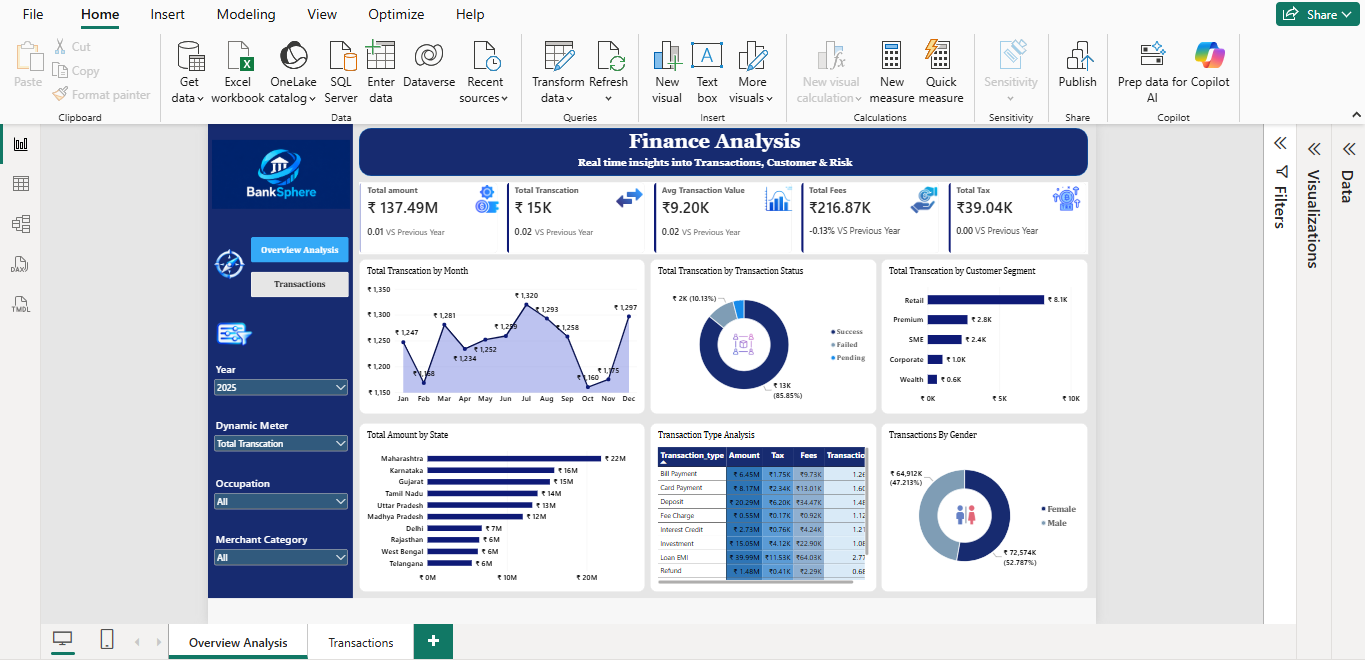

The page's visual inventory and layout, read from the dashboard file:
{"tool":"powerbi","page":{"name":"Overview Analysis","canvas":[1920,1080],"ordinal":0},"visuals":[{"type":"textbox","box":[0,0,313.2,1023.8],"z":0},{"type":"textbox","box":[313.2,0,1607,1023.8],"z":1000},{"type":"areaChart","fields":{"Category":["Calender Table.Month"],"Y":["Finance_Transactions.Total Transcation"]},"box":[326.2,291.6,617.8,334.8],"z":1000,"group":"g2"},{"type":"donutChart","title":"Total Transcation by Transaction Status","fields":{"Category":["Finance_Transactions.transaction_status"],"Y":["Finance_Transactions.Total Transcation"]},"box":[954,291.6,490.3,334.8],"z":1000,"group":"g1"},{"type":"cardVisual","fields":{"Data":["Finance_Transactions.Total amount","Finance_Transactions.Total Transcation","Finance_Transactions.Avg Transaction Value","Finance_Transactions.Total Fees","Finance_Transactions.Total Tax"]},"box":[326.2,125.3,1574.6,155.5],"z":2000},{"type":"group","id":"g1","title":"Group 1","box":[954,291.6,490.3,334.8],"z":4000},{"type":"group","id":"g2","title":"Group 3","box":[326.2,291.6,617.8,334.8],"z":5000},{"type":"slicer","fields":{"Values":["Calender Table.Year"]},"box":[8.6,514,298.1,88.6],"z":6000,"group":"g6"},{"type":"pivotTable","title":"Transaction Type Analysis","fields":{"Rows":["Finance_Transactions.transaction_type"],"Values":["Finance_Transactions.Total amount","Finance_Transactions.Total Tax","Finance_Transactions.Total Fees","CountNonNull(Finance_Transactions.transaction_id)"]},"box":[954.7,645.8,490.3,365],"z":6000},{"type":"image","box":[550.8,131.8,103.7,60.5],"z":7000},{"type":"slicer","fields":{"Values":["Dynamic Meter.Dynamic Meter"]},"box":[8.6,635,298.1,84.2],"z":7000,"group":"g6"},{"type":"image","box":[861.8,129.6,97.2,60.5],"z":8000},{"type":"image","box":[1188,131.8,88.6,60.5],"z":9000},{"type":"image","box":[1496.9,133.9,99.4,60.5],"z":10000},{"type":"donutChart","title":"Transactions By Gender","fields":{"Category":["Customers.gender"],"Y":["Finance_Transactions.Total amount"]},"box":[1453.7,645.8,447.1,365],"z":10000,"group":"g8"},{"type":"image","box":[1807.9,125.3,92.9,71.3],"z":11000},{"type":"image","box":[1093,451.4,127.4,47.5],"z":12000},{"type":"group","id":"g3","title":"Group 5","box":[1453.7,645.8,447.1,365],"z":13000},{"type":"group","id":"g4","title":"Group 2","box":[326.2,645.8,617.8,365],"z":14000},{"type":"group","id":"g5","title":"Group 6","box":[1453.7,291.6,447.1,334.8],"z":16000},{"type":"group","id":"g6","title":"Group 7","box":[4.3,30.2,302.4,928.8],"z":17000},{"type":"shape","box":[326.2,8.6,1574.6,103.7],"z":17500},{"type":"cardVisual","fields":{"Data":["Finance_Transactions.Title"]},"box":[719.6,4.7,751,64.8],"z":18000,"group":"g7"},{"type":"slicer","fields":{"Values":["Customers.occupation"]},"box":[8.6,760.3,298.1,75.6],"z":18000,"group":"g6"},{"type":"image","box":[1587.4,807.8,98.2,75.9],"z":18000,"group":"g8"},{"type":"textbox","box":[382.3,71.7,1425.6,43.2],"z":18500,"group":"g7"},{"type":"group","id":"g7","title":"Group 8","box":[382.3,4.7,1425.6,110.2],"z":18501},{"type":"slicer","fields":{"Values":["Finance_Transactions.merchant_category"]},"box":[8.6,881.2,298.1,77.8],"z":19000,"group":"g6"},{"type":"pageNavigator","box":[92.9,244,211.7,131.8],"z":21000,"group":"g6"},{"type":"image","box":[8.6,30.2,298.1,157.7],"z":22000,"group":"g6"},{"type":"group","id":"g8","title":"Group 4","box":[1453.7,645.8,447.1,365],"z":22000,"group":"g3"},{"type":"image","box":[4.3,270,84.2,64.8],"z":23000,"group":"g6"},{"type":"image","box":[8.6,419,90.7,69.1],"z":24000,"group":"g6"},{"type":"barChart","title":"Total Transcation by Customer Segment","fields":{"Category":["Customers.customer_segment"],"Y":["Finance_Transactions.Total Transcation"]},"box":[1453.7,291.6,447.1,334.8],"z":26500,"group":"g5"},{"type":"clusteredBarChart","title":"Total Amount by State","fields":{"Category":["Customers.state"],"Y":["Finance_Transactions.Total amount"]},"box":[326.2,645.8,617.8,365],"z":27000,"group":"g4"}]}

Visuals, with their boxes on the page's 1920x1080 design canvas (x1, y1, x2, y2). These are canvas units, not pixel positions in the 1365x660 screenshot, which may show the page scaled, cropped or inside an application window:
textbox: <bbox>0, 0, 313, 1024</bbox>
textbox: <bbox>313, 0, 1920, 1024</bbox>
areaChart - Calender Table.Month x Finance_Transactions.Total Transcation: <bbox>326, 292, 944, 626</bbox>
"Total Transcation by Transaction Status" donutChart: <bbox>954, 292, 1444, 626</bbox>
cardVisual - Finance_Transactions.Total amount x Finance_Transactions.Total Transcation: <bbox>326, 125, 1901, 281</bbox>
"Group 1" group: <bbox>954, 292, 1444, 626</bbox>
"Group 3" group: <bbox>326, 292, 944, 626</bbox>
slicer - Calender Table.Year: <bbox>9, 514, 307, 603</bbox>
"Transaction Type Analysis" pivotTable: <bbox>955, 646, 1445, 1011</bbox>
image: <bbox>551, 132, 654, 192</bbox>
slicer - Dynamic Meter.Dynamic Meter: <bbox>9, 635, 307, 719</bbox>
image: <bbox>862, 130, 959, 190</bbox>
image: <bbox>1188, 132, 1277, 192</bbox>
image: <bbox>1497, 134, 1596, 194</bbox>
"Transactions By Gender" donutChart: <bbox>1454, 646, 1901, 1011</bbox>
image: <bbox>1808, 125, 1901, 197</bbox>
image: <bbox>1093, 451, 1220, 499</bbox>
"Group 5" group: <bbox>1454, 646, 1901, 1011</bbox>
"Group 2" group: <bbox>326, 646, 944, 1011</bbox>
"Group 6" group: <bbox>1454, 292, 1901, 626</bbox>
"Group 7" group: <bbox>4, 30, 307, 959</bbox>
shape: <bbox>326, 9, 1901, 112</bbox>
cardVisual - Finance_Transactions.Title: <bbox>720, 5, 1471, 70</bbox>
slicer - Customers.occupation: <bbox>9, 760, 307, 836</bbox>
image: <bbox>1587, 808, 1686, 884</bbox>
textbox: <bbox>382, 72, 1808, 115</bbox>
"Group 8" group: <bbox>382, 5, 1808, 115</bbox>
slicer - Finance_Transactions.merchant_category: <bbox>9, 881, 307, 959</bbox>
pageNavigator: <bbox>93, 244, 305, 376</bbox>
image: <bbox>9, 30, 307, 188</bbox>
"Group 4" group: <bbox>1454, 646, 1901, 1011</bbox>
image: <bbox>4, 270, 88, 335</bbox>
image: <bbox>9, 419, 99, 488</bbox>
"Total Transcation by Customer Segment" barChart: <bbox>1454, 292, 1901, 626</bbox>
"Total Amount by State" clusteredBarChart: <bbox>326, 646, 944, 1011</bbox>
